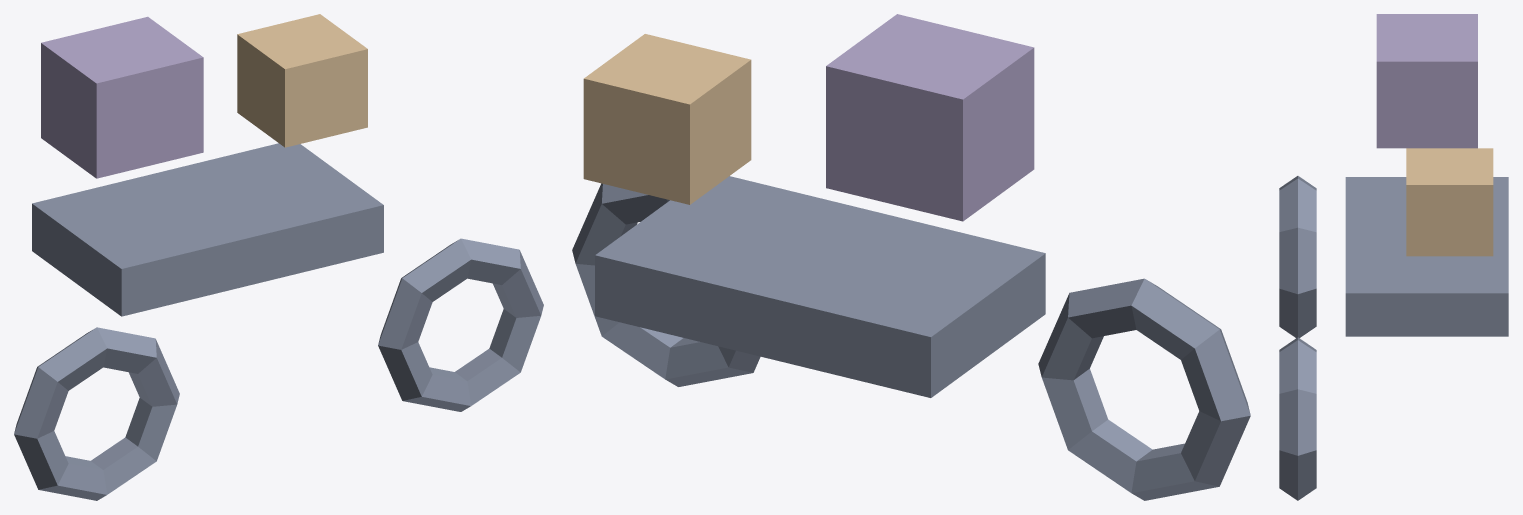
File: moonhill-baggage-trolley-01.glb
The picture shows the model from 3 angles, left to right: view 1: azimuth 30°, elevation 25°; view 2: azimuth 150°, elevation 25°; view 3: azimuth 270°, elevation 25°; orthographic projection. The views are drawn at different scales.
Visible parts, largest first — view 1: TrolleyBed, VioletCase, Wheel_1, Wheel_0, LeatherCase; view 2: TrolleyBed, VioletCase, Wheel_0, LeatherCase, Wheel_1; view 3: TrolleyBed, VioletCase, LeatherCase, Wheel_1, Wheel_0.
Boxes of the visible parts, box(x1,y1,x2,y2) form: TrolleyBed: box(32, 143, 383, 316); VioletCase: box(41, 16, 203, 178); Wheel_1: box(378, 238, 543, 411); Wheel_0: box(14, 327, 179, 500); LeatherCase: box(237, 14, 367, 147); TrolleyBed: box(595, 176, 1045, 397); VioletCase: box(826, 14, 1034, 221); Wheel_0: box(1038, 278, 1250, 500); LeatherCase: box(583, 34, 751, 204); Wheel_1: box(572, 183, 760, 386); TrolleyBed: box(1345, 177, 1508, 336); VioletCase: box(1376, 14, 1477, 148); LeatherCase: box(1406, 148, 1493, 256); Wheel_1: box(1279, 337, 1316, 500); Wheel_0: box(1279, 176, 1316, 337).
Size of the model in its own units: 0.99 by 0.67 by 0.4083.
